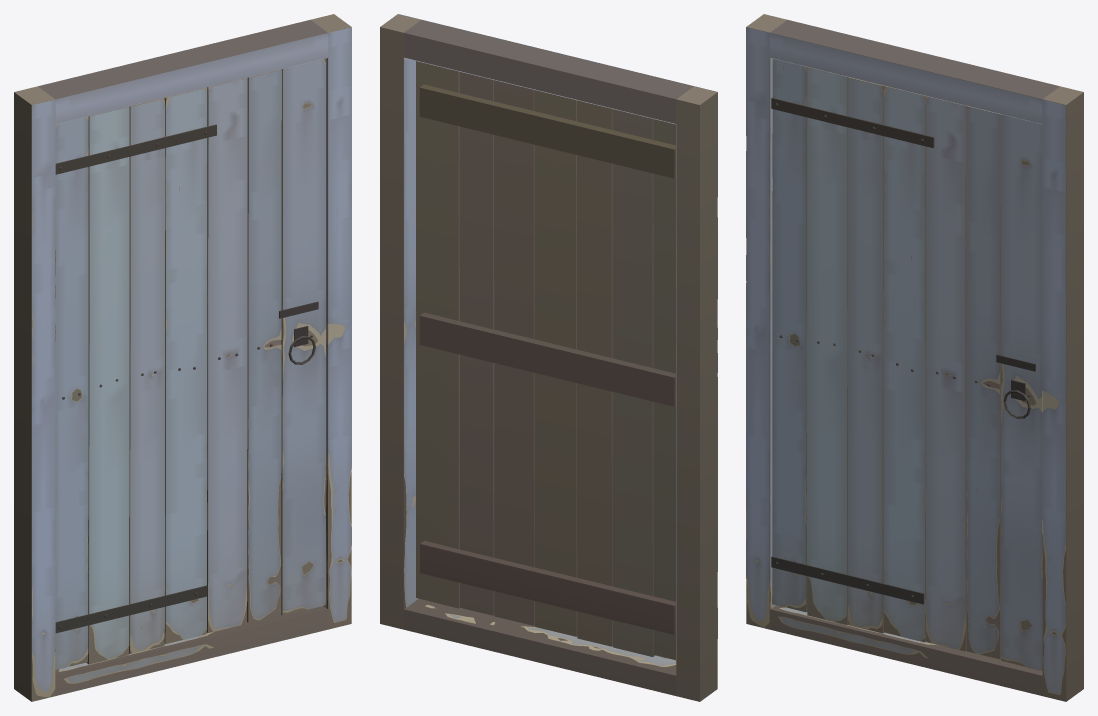
The model's file is painted_wood_panel_c.glb.
3 views of the same model, side by side, from view 1: azimuth 30°, elevation 25°; view 2: azimuth 150°, elevation 25°; view 3: azimuth 330°, elevation 25° (orthographic).
Parts seen in each view (by area): view 1: hb_main, hb_wood; view 2: hb_wood, hb_main; view 3: hb_main, hb_wood.
Part boxes in pixels (left/top/right/bottom): hb_main: left=32, top=27, right=351, bottom=697; hb_wood: left=14, top=14, right=351, bottom=701; hb_wood: left=380, top=14, right=717, bottom=701; hb_main: left=398, top=14, right=717, bottom=666; hb_main: left=746, top=27, right=1065, bottom=694; hb_wood: left=746, top=14, right=1083, bottom=701.
Size of the model in its own units: 1.15 by 2.05 by 0.1129.
